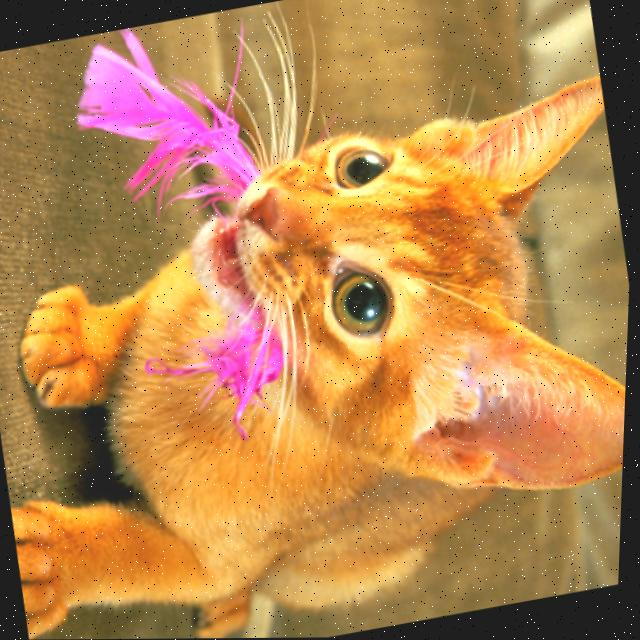Abyssinian: (0, 64, 638, 640)
